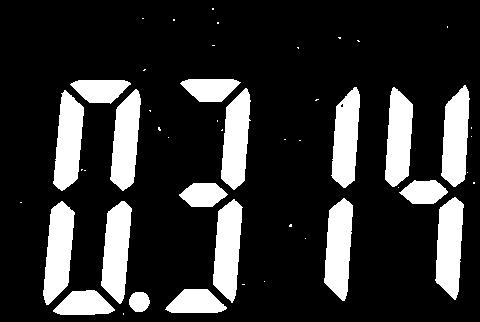0: (37, 78, 142, 315)
1: (323, 85, 364, 301)
3: (163, 76, 253, 316)
4: (382, 85, 471, 303)
dot: (128, 289, 152, 313)
